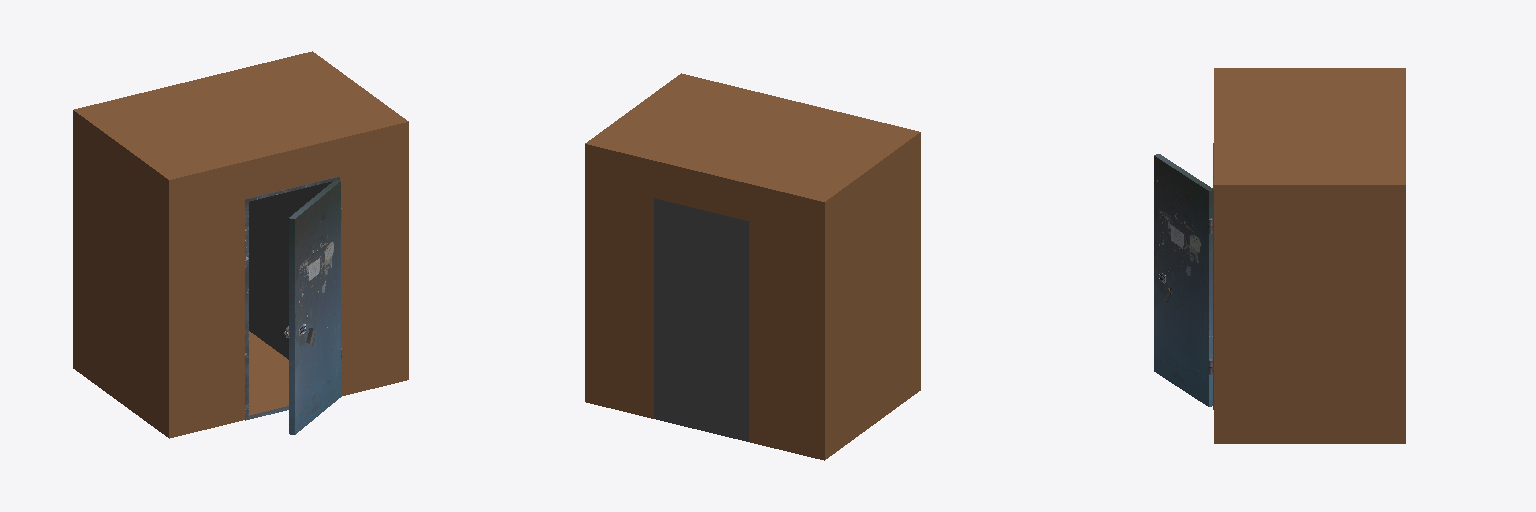
3 views of the same model, side by side, from view 1: azimuth 30°, elevation 25°; view 2: azimuth 150°, elevation 25°; view 3: azimuth 270°, elevation 25° (orthographic).
Parts seen in each view (by area): view 1: Mesh2 Group1 Model, Mesh20 Group6 Group4 Group3 Model, Mesh1 Group2 Group1 Model, Mesh22 Group16 Group3 Model; view 2: Mesh2 Group1 Model, Mesh1 Group2 Group1 Model; view 3: Mesh2 Group1 Model, Mesh20 Group6 Group4 Group3 Model.
Part boxes in pixels (left/top/right/bottom): Mesh2 Group1 Model: left=73, top=51, right=408, bottom=438; Mesh20 Group6 Group4 Group3 Model: left=289, top=180, right=340, bottom=434; Mesh1 Group2 Group1 Model: left=249, top=181, right=332, bottom=415; Mesh22 Group16 Group3 Model: left=245, top=176, right=339, bottom=420; Mesh2 Group1 Model: left=585, top=73, right=920, bottom=460; Mesh1 Group2 Group1 Model: left=654, top=198, right=748, bottom=441; Mesh2 Group1 Model: left=1214, top=68, right=1405, bottom=443; Mesh20 Group6 Group4 Group3 Model: left=1154, top=154, right=1212, bottom=406.
Size of the model in its own units: 7.65 by 7.88 by 6.99.
Materials: 26 (24 with a texture image).